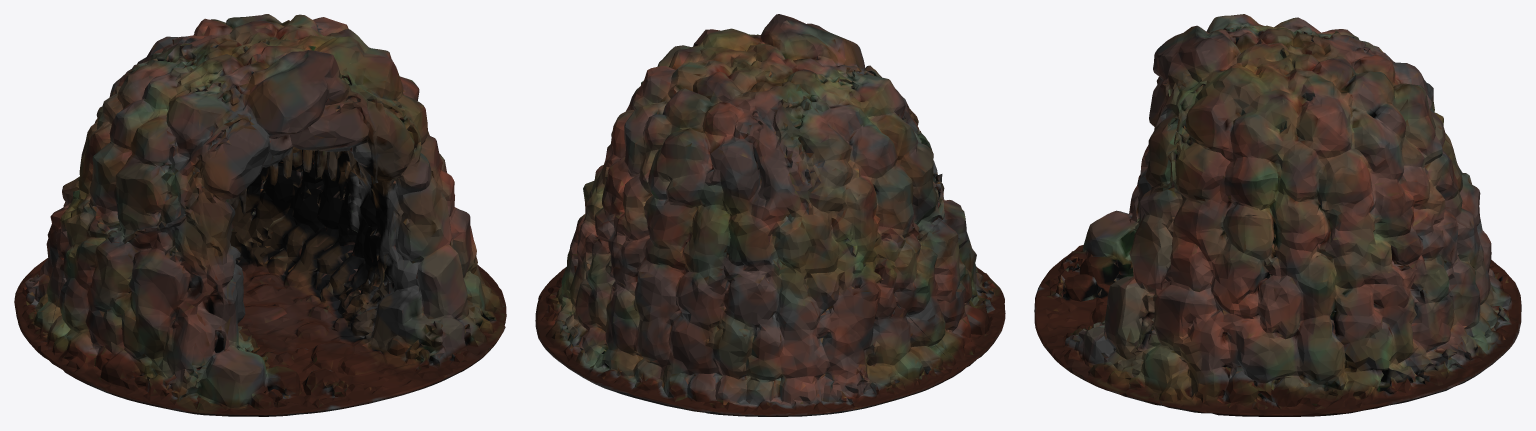
The model's file is caverna.glb.
The picture shows the model from 3 angles, left to right: view 1: azimuth 30°, elevation 25°; view 2: azimuth 150°, elevation 25°; view 3: azimuth 270°, elevation 25°; orthographic projection. The views are drawn at different scales.
Parts seen in each view (by area): view 1: tmpvnbxa_fk.ply; view 2: tmpvnbxa_fk.ply; view 3: tmpvnbxa_fk.ply.
Part boxes in pixels (left/top/right/bottom): tmpvnbxa_fk.ply: left=14, top=14, right=506, bottom=416; tmpvnbxa_fk.ply: left=535, top=14, right=1005, bottom=416; tmpvnbxa_fk.ply: left=1034, top=14, right=1521, bottom=416.
Bounding box in the file's own units: 1.96 × 1.27 × 1.96.
Materials: 1 (1 with a texture image).
